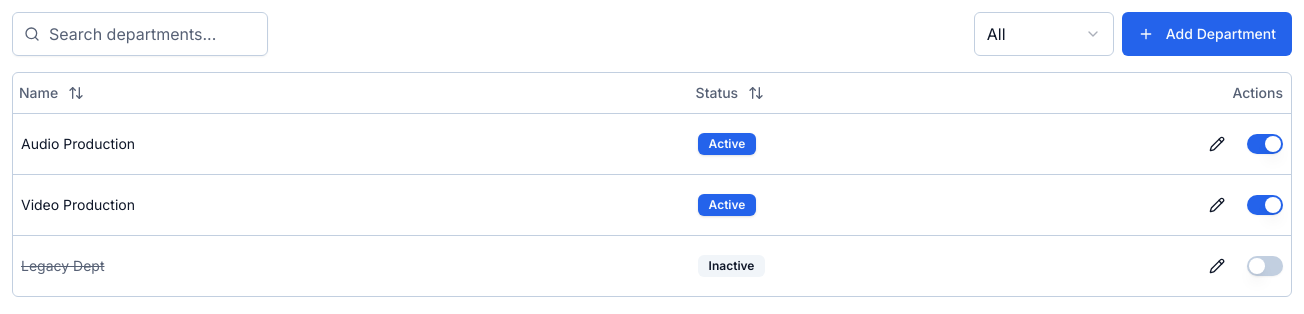
Test: DepartmentsListClient › Status Filtering › filters by inactive status when selected
Click the dropdown.
click(1044, 34)  # box [974,12,1114,56]
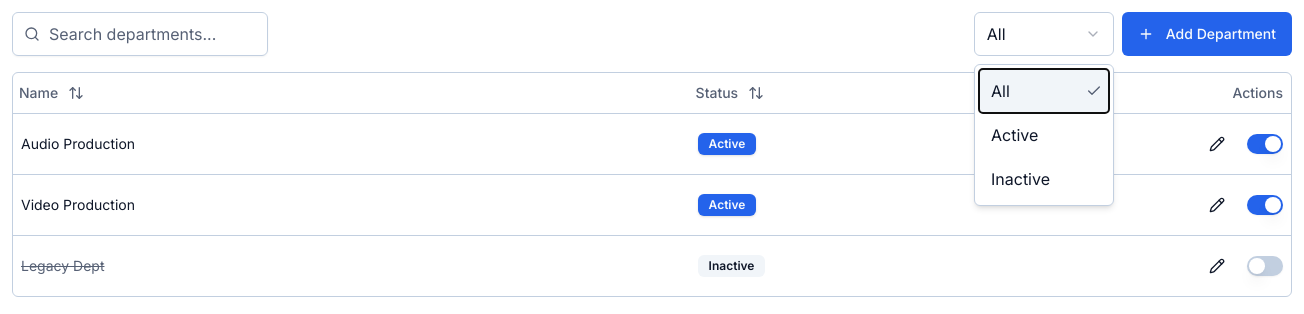
Click the option "Inactive".
click(1020, 179)  # box [991,169,1050,189]
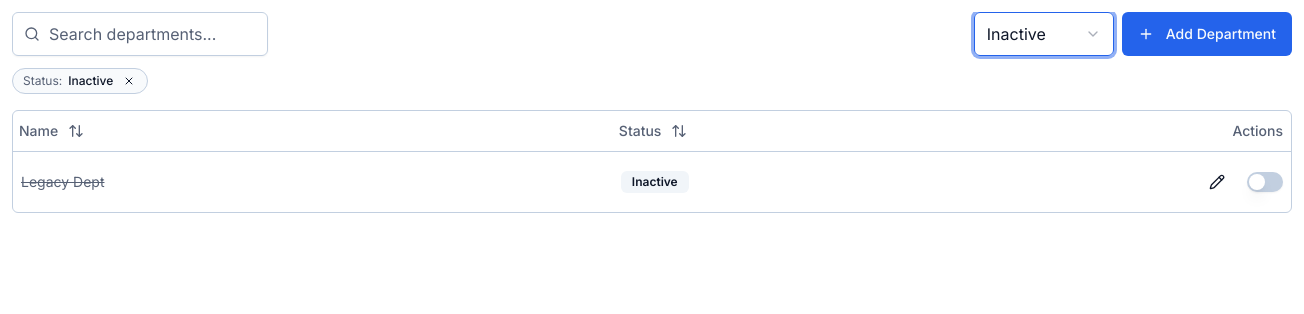
Check: the text "Legacy Dept" is shown, box [21,172,104,190]
Check: the text "Audio Production" is gone
Check: the text "Video Production" is gone
